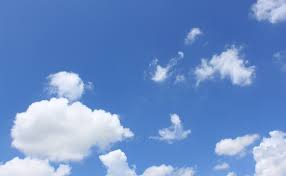sky: (1, 2, 286, 173)
